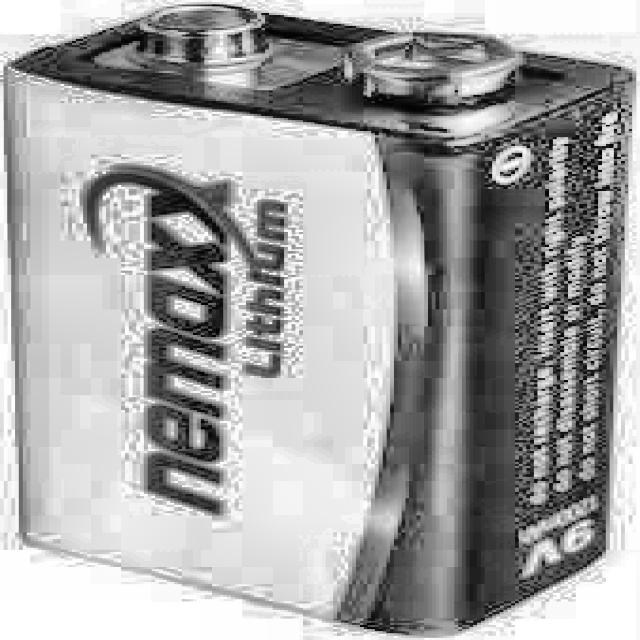Battery: (11, 4, 610, 640)
